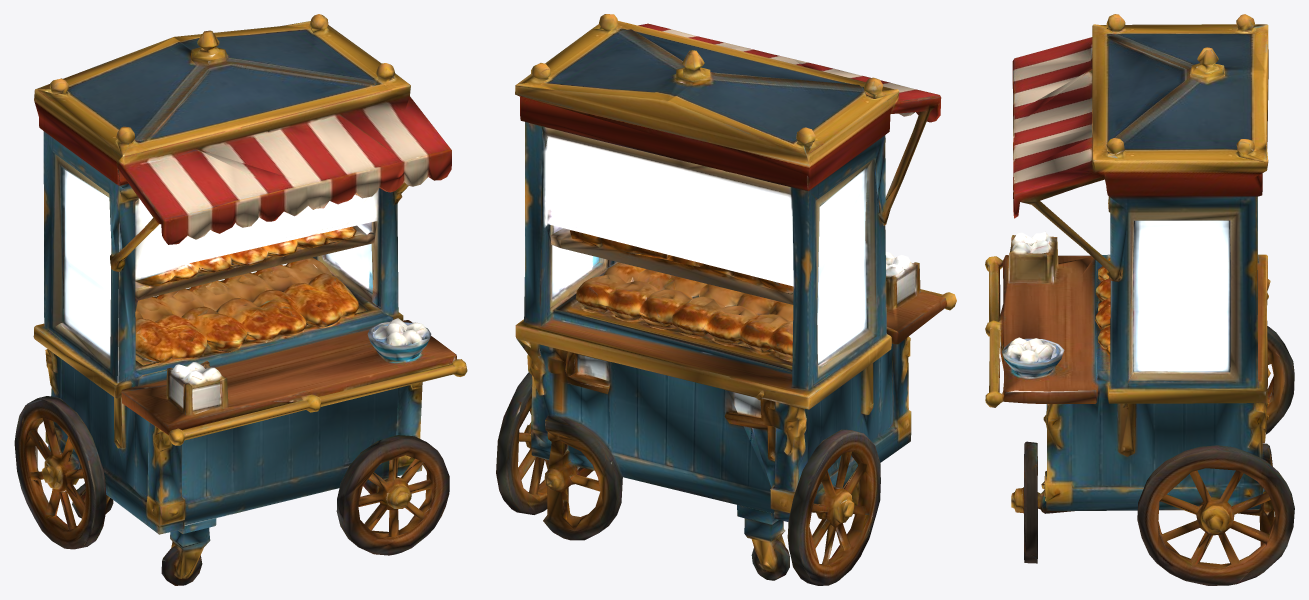
Rendered from city_izmir_boyoz_cart.glb.
3 views of the same model, side by side, from view 1: azimuth 30°, elevation 25°; view 2: azimuth 150°, elevation 25°; view 3: azimuth 270°, elevation 25° (orthographic). The views are drawn at different scales.
Visible parts, largest first — view 1: Mesh1.0; view 2: Mesh1.0; view 3: Mesh1.0.
Boxes of the visible parts, <box> form: Mesh1.0: <box>14,14,467,585</box>; Mesh1.0: <box>496,14,956,585</box>; Mesh1.0: <box>985,14,1294,585</box>.
Bounding box in the file's own units: 1.67 × 2.4 × 1.44.
Materials: 1 (1 with a texture image).
